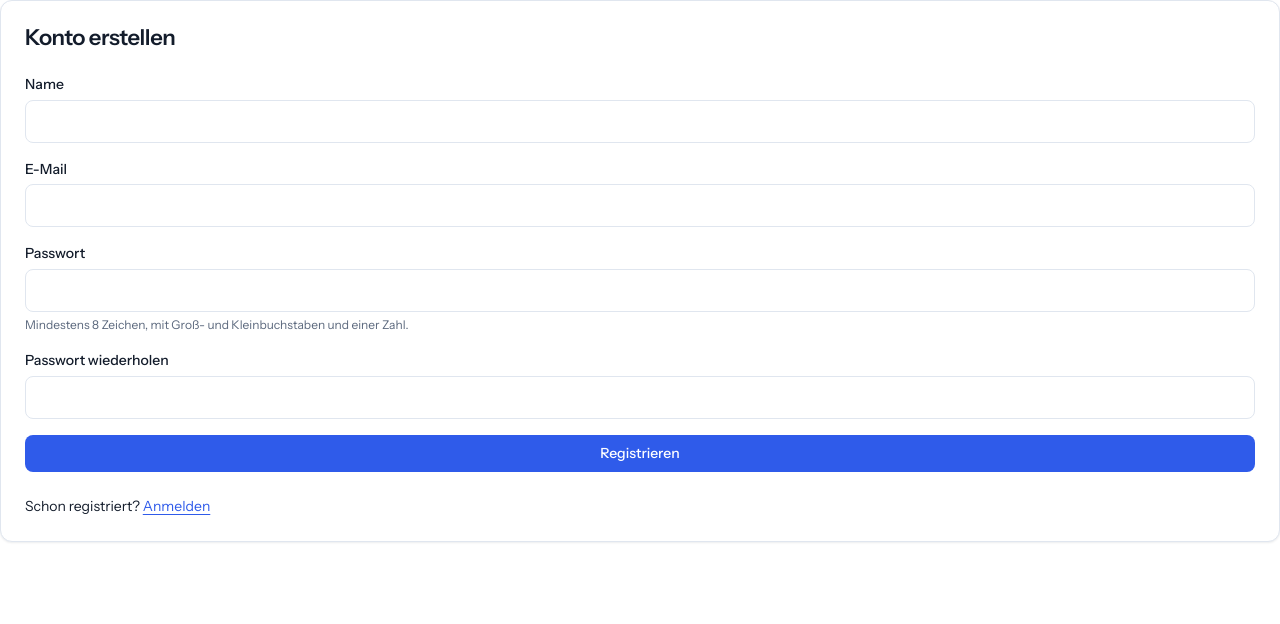
SignUpView › prüft die Eingaben vor dem Request
In the field with id "sign-up-name": (640, 121) [25,100,1255,143], type "Tommy"
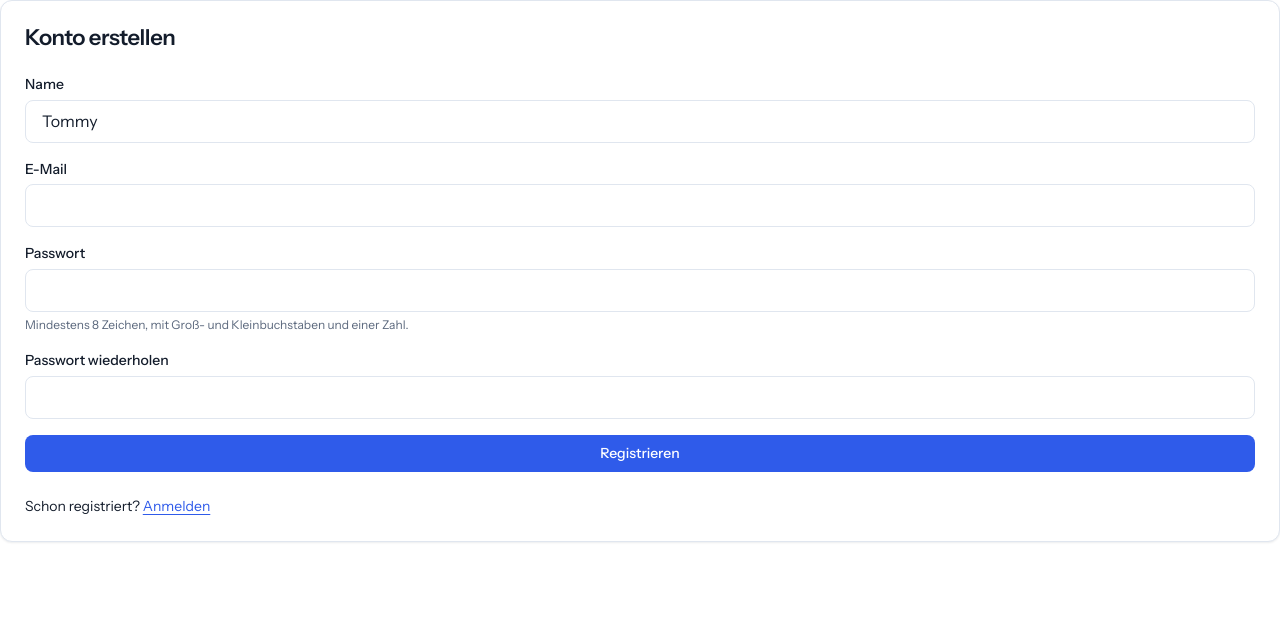
In the field with id "sign-up-email": (640, 206) [25,184,1255,227], type "t@example.com"
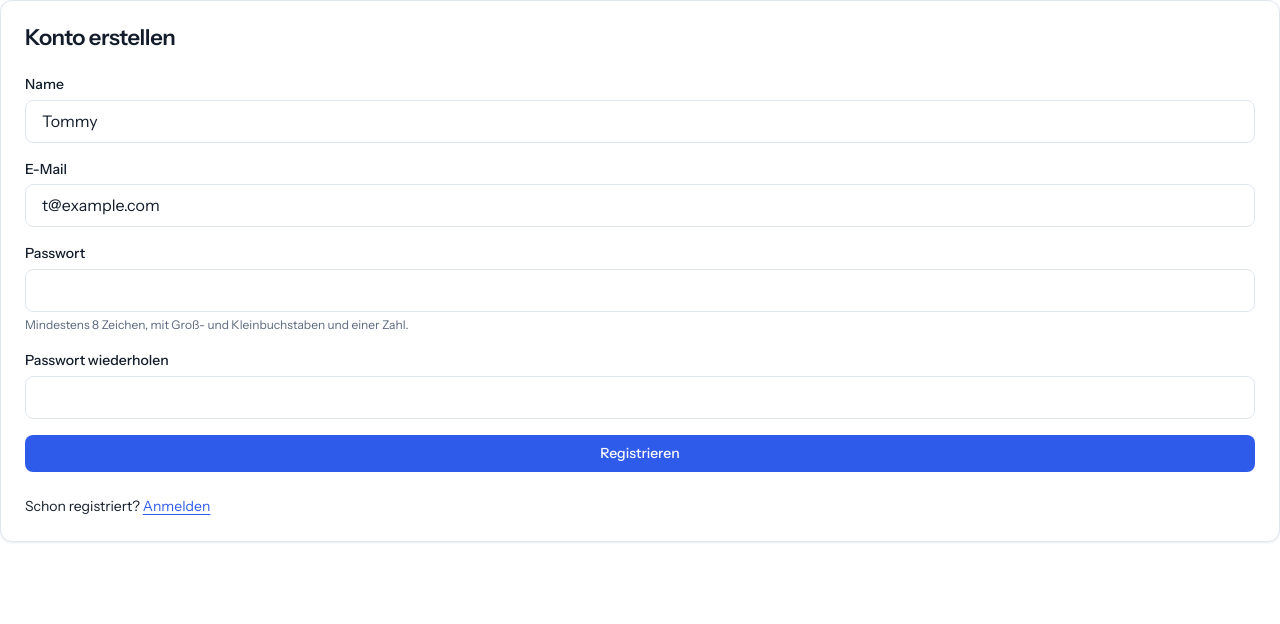
In the password field with id "sign-up-password": (640, 290) [25,269,1255,312], type "kurz"
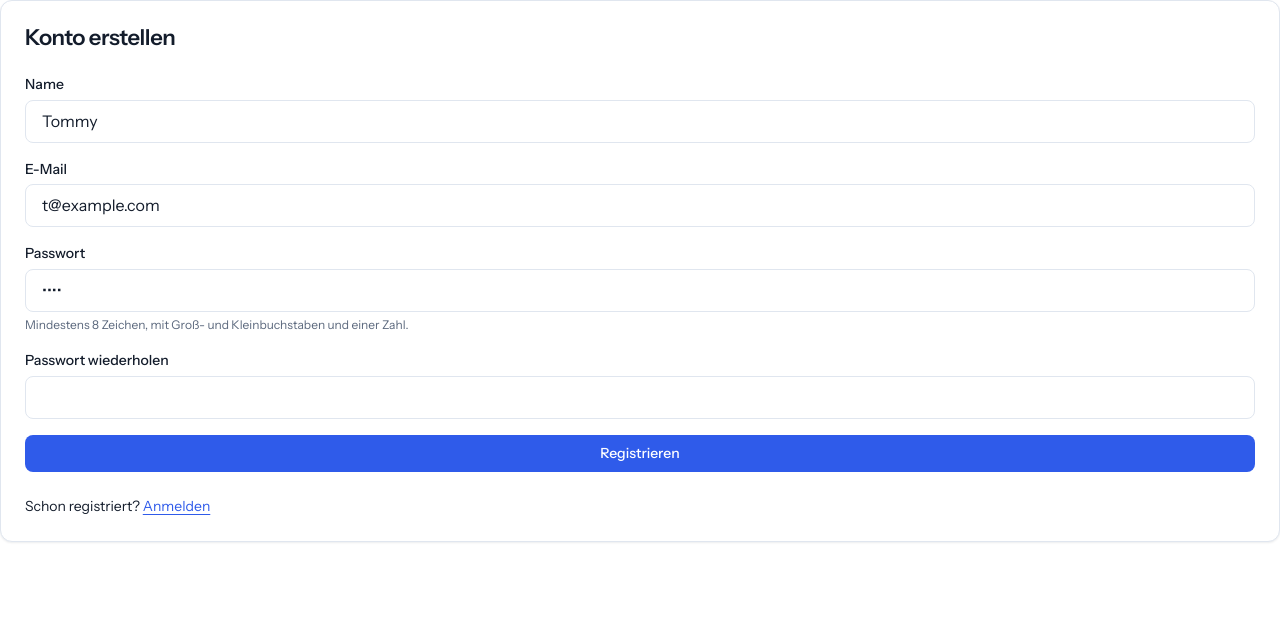
In the password field with id "sign-up-password-confirm": (640, 397) [25,376,1255,419], type "kurz"
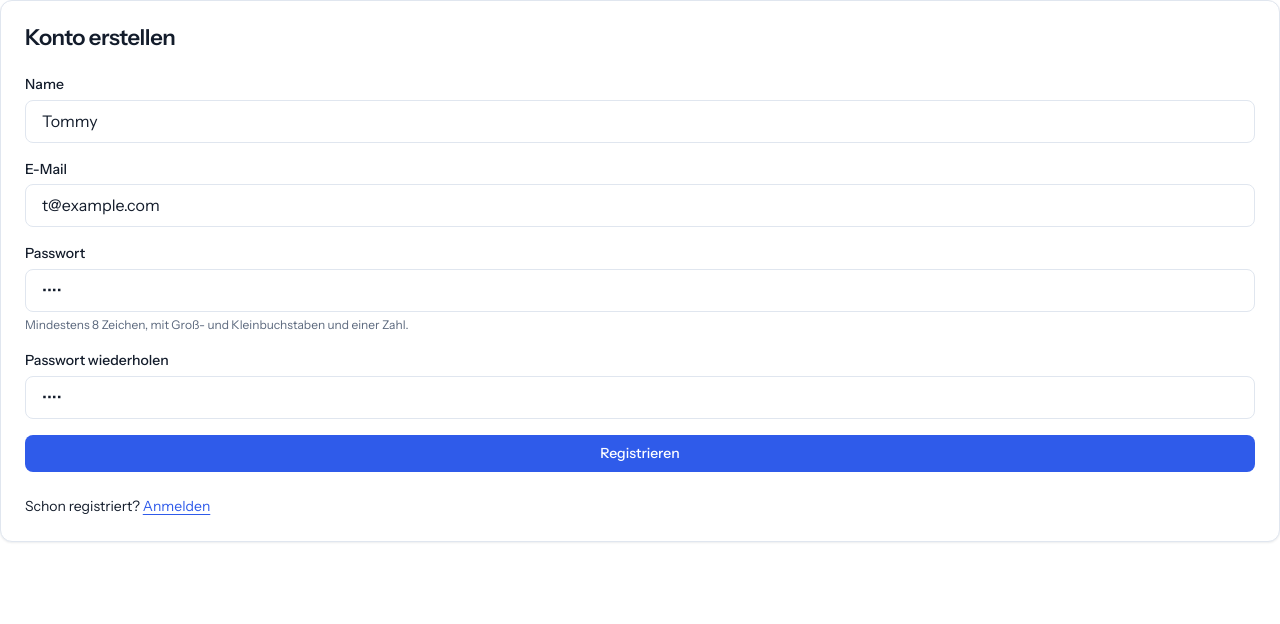
Submit the form
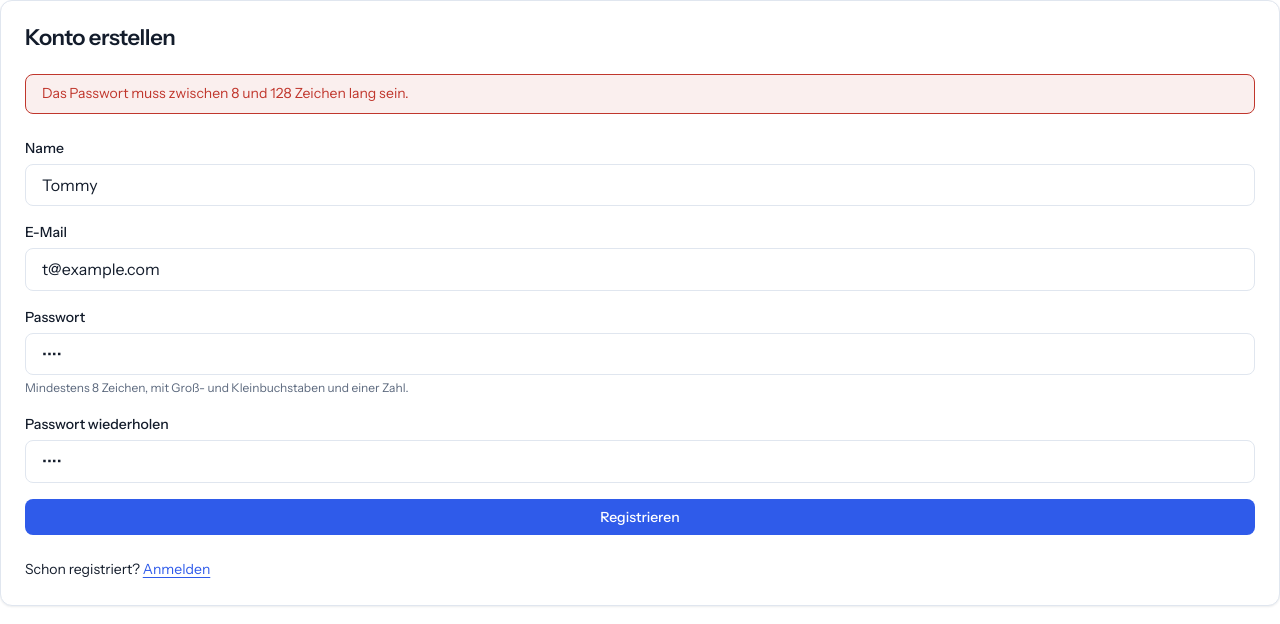
Result: the text "Das Passwort muss zwischen 8 und 128 Zeichen lang sein." is shown at [25,74,1255,114]
